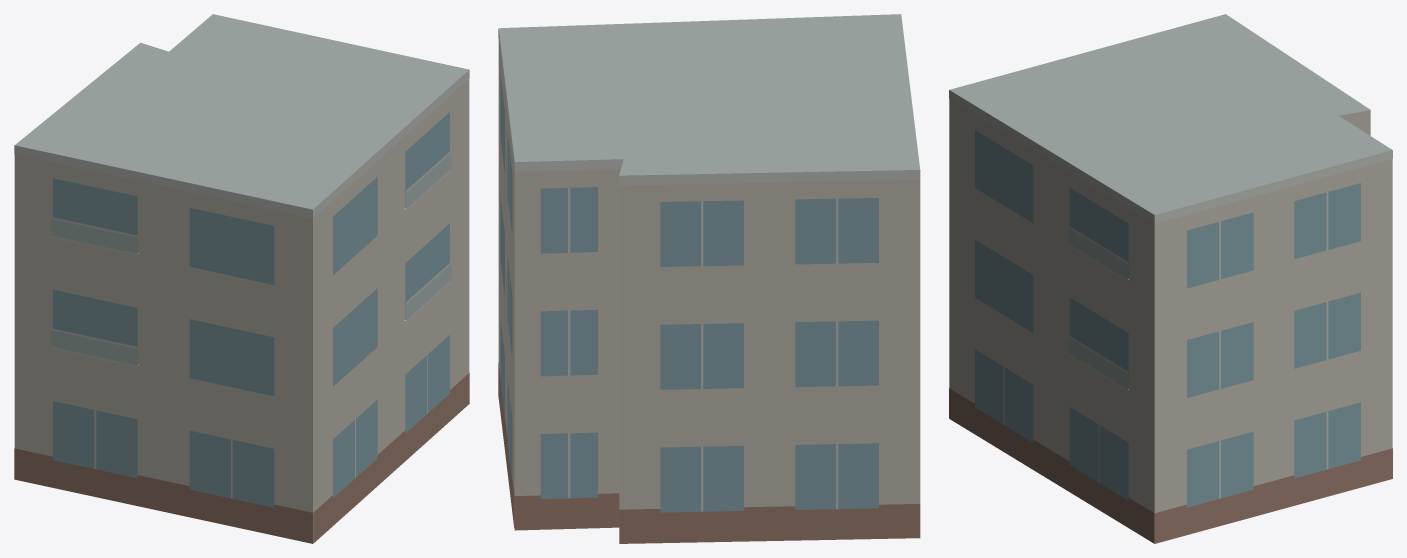
The model's file is survey-upis-32790381.glb.
3 renders of one model, left to right at view 1: azimuth 30°, elevation 25°; view 2: azimuth 150°, elevation 25°; view 3: azimuth 270°, elevation 25°, orthographic. The views are drawn at different scales.
Visible parts, largest first — view 1: survey-upis-32790381.tmp; view 2: survey-upis-32790381.tmp; view 3: survey-upis-32790381.tmp.
Boxes of the visible parts, x1=… form: survey-upis-32790381.tmp: x1=14, y1=14, x2=469, y2=543; survey-upis-32790381.tmp: x1=498, y1=14, x2=920, y2=543; survey-upis-32790381.tmp: x1=949, y1=14, x2=1392, y2=543.
Size of the model in its own units: 12.01 by 9.15 by 11.2.
